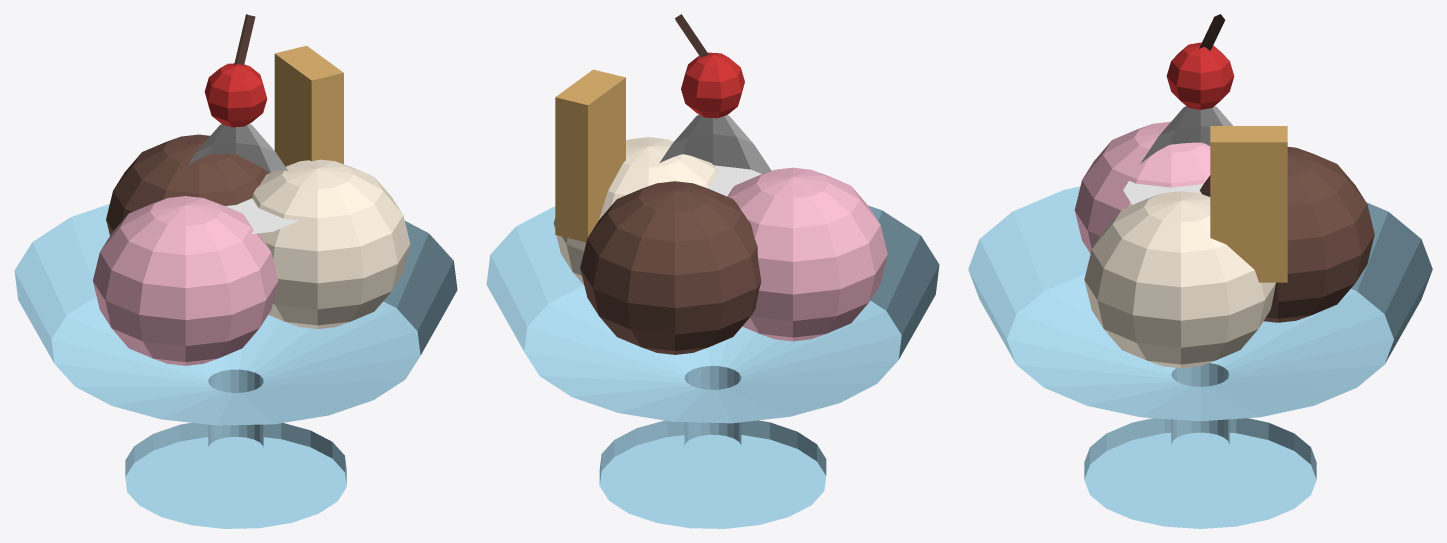
File: glasskal.glb
The picture shows the model from 3 angles, left to right: view 1: azimuth 30°, elevation 25°; view 2: azimuth 150°, elevation 25°; view 3: azimuth 270°, elevation 25°; orthographic projection. The views are drawn at different scales.
Visible parts, largest first — view 1: glasskal; view 2: glasskal; view 3: glasskal.
Part boxes in pixels (box(x1,y1,x2,y2)): glasskal: box(14, 14, 457, 528); glasskal: box(486, 14, 939, 528); glasskal: box(968, 14, 1432, 528).
Size of the model in its own units: 0.48 by 0.5424 by 0.48.
